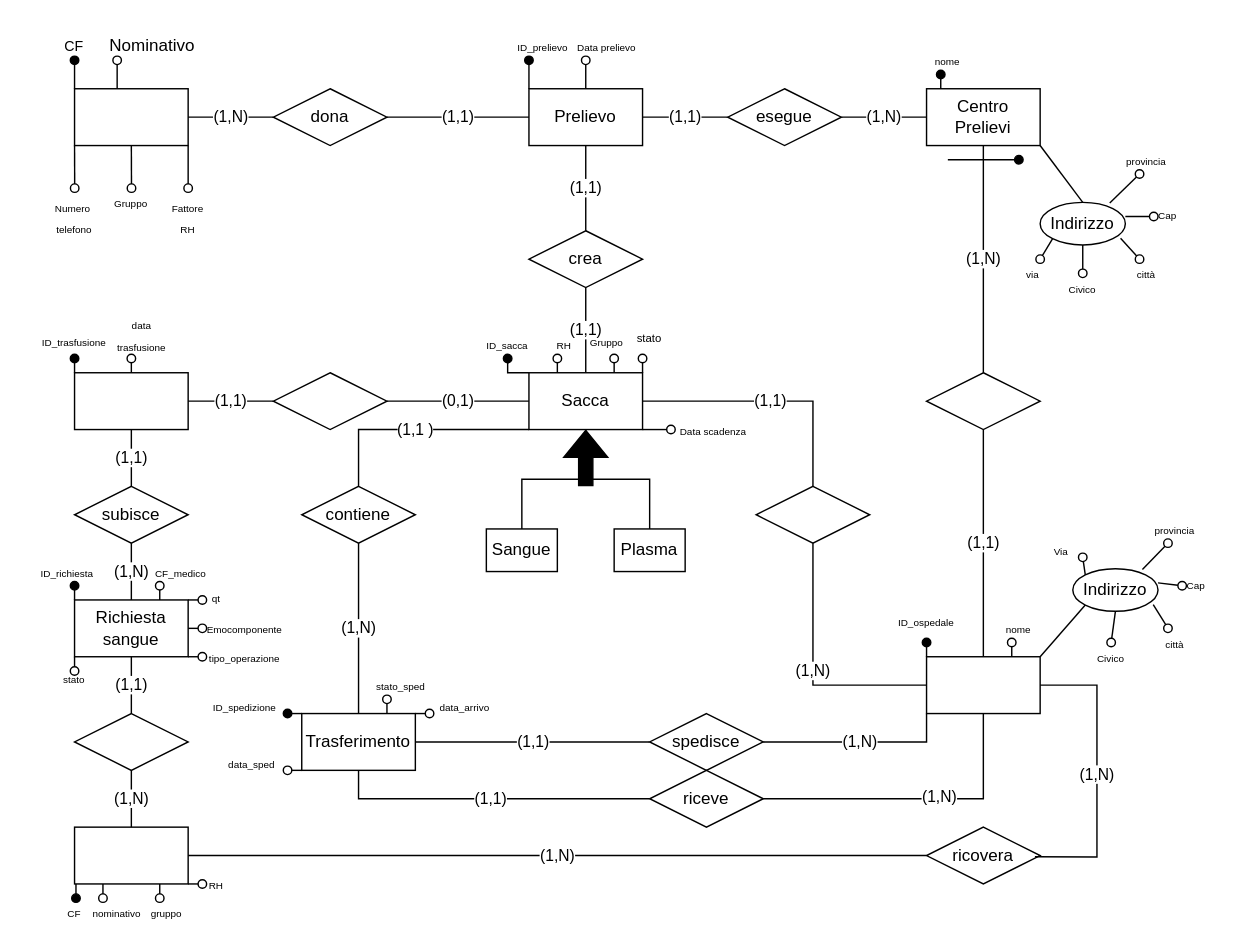
The diagram is 1248 pixels wide and 950 high, and some of its shapes have lost their labels. Each missing label, with the centre of its shape:
Donatore: pixel 130 116
imagazzina: pixel 812 514
necessita: pixel 130 741
Ospedale: pixel 982 684
Paziente: pixel 130 855
rifornisce: pixel 982 400
Trasfusione: pixel 130 400
usata: pixel 329 400
